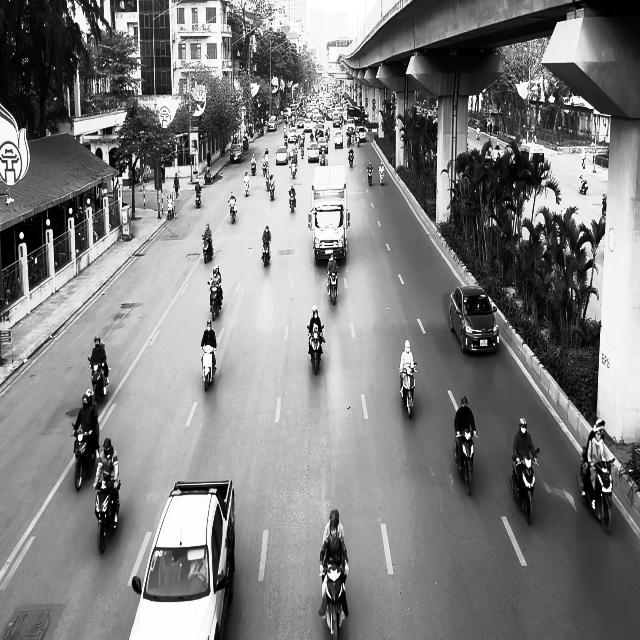car: (128, 478, 236, 640), (449, 285, 499, 354), (275, 145, 288, 165), (308, 142, 320, 162)
motorbike: (576, 446, 614, 535), (509, 447, 539, 525), (93, 479, 121, 554), (321, 562, 348, 639), (71, 422, 97, 491), (454, 429, 477, 496), (87, 357, 109, 402), (399, 364, 417, 418), (306, 324, 324, 375), (201, 344, 216, 391), (207, 281, 223, 320), (326, 268, 338, 304), (202, 235, 214, 263), (261, 238, 271, 267), (228, 199, 237, 224), (167, 197, 176, 219), (578, 176, 588, 194), (366, 165, 374, 185), (289, 190, 296, 212), (290, 159, 298, 178), (195, 186, 201, 208), (243, 180, 250, 197), (348, 147, 354, 166), (379, 167, 384, 185)
truck: (308, 164, 349, 266)
